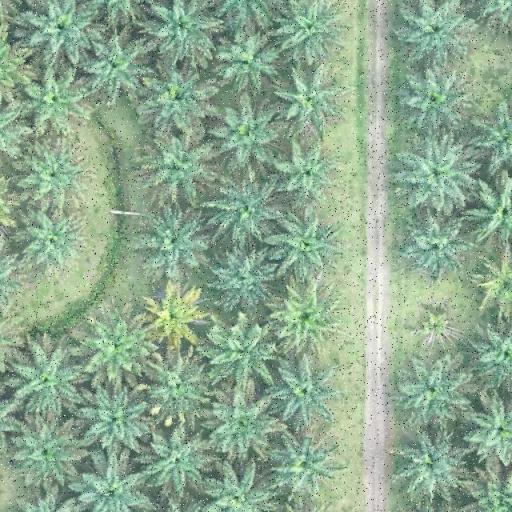Ganoderma: (152, 291, 199, 334), (420, 310, 456, 343)
